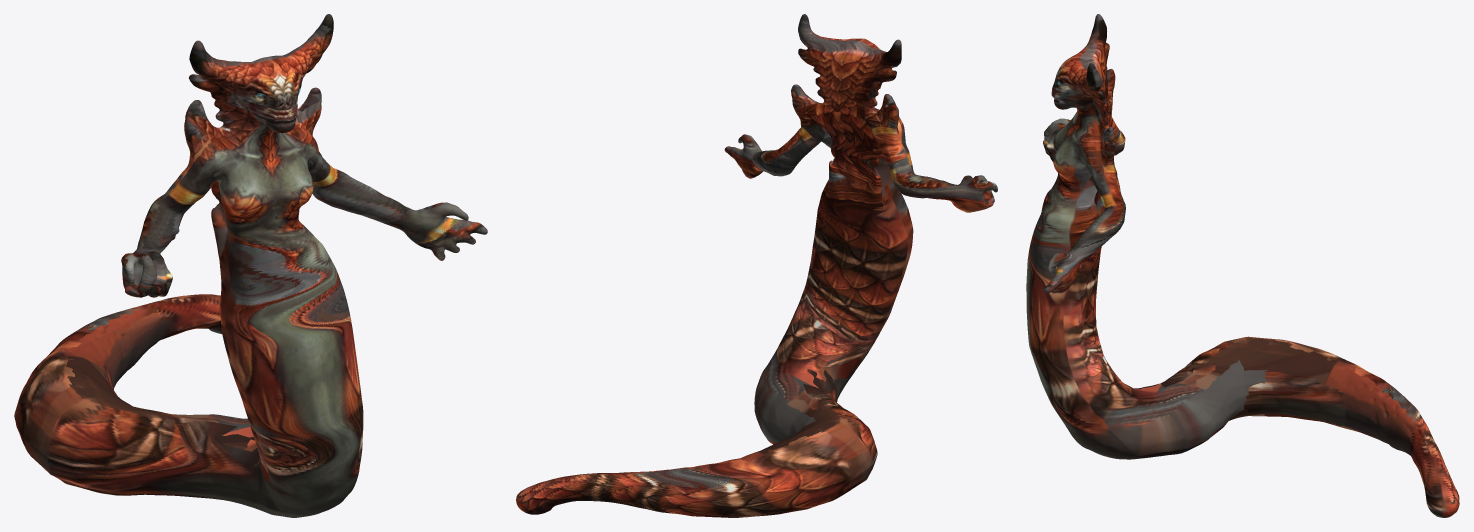
The model's file is ozara-overview-v1.glb.
3 renders of one model, left to right at view 1: azimuth 30°, elevation 25°; view 2: azimuth 150°, elevation 25°; view 3: azimuth 270°, elevation 25°, orthographic. The views are drawn at different scales.
Parts seen in each view (by area): view 1: ozara; view 2: ozara; view 3: ozara.
Boxes of the visible parts, x1=… form: ozara: x1=14, y1=14, x2=487, y2=517; ozara: x1=516, y1=14, x2=997, y2=517; ozara: x1=1026, y1=14, x2=1459, y2=517.
Size of the model in its own units: 1.5 by 1.98 by 1.93.
Materials: 1 (1 with a texture image).
